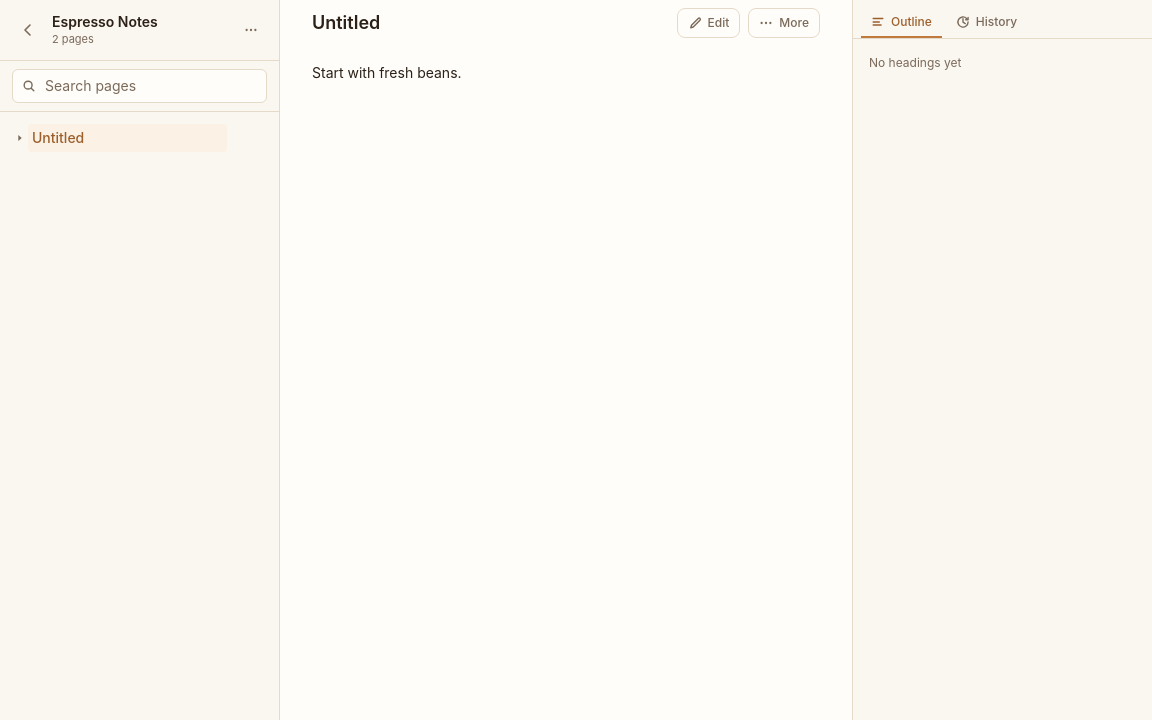
NotebookReaderPage › re-slugs a parent and says how many pages moved with it
Click the button "Edit". click: (708, 23)
box: left=677, top=8, right=740, bottom=38
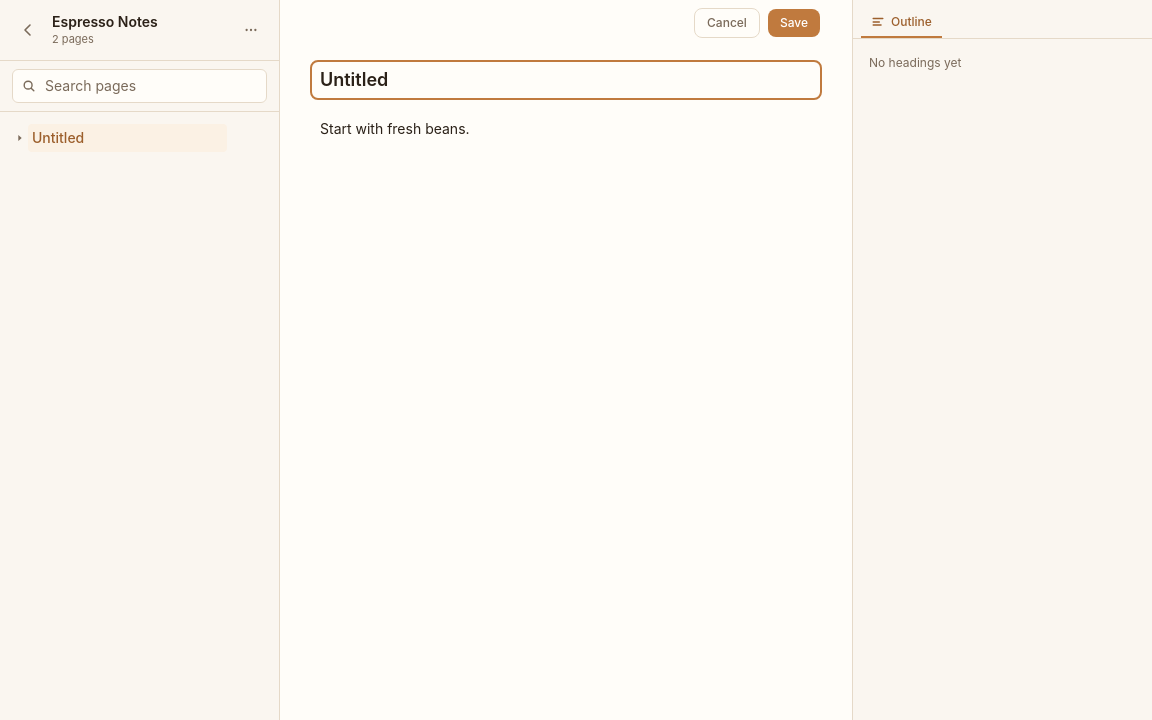
Replace the text in the field named "Page title" with "Filter Notes". click: (566, 80)
box: left=312, top=62, right=820, bottom=98
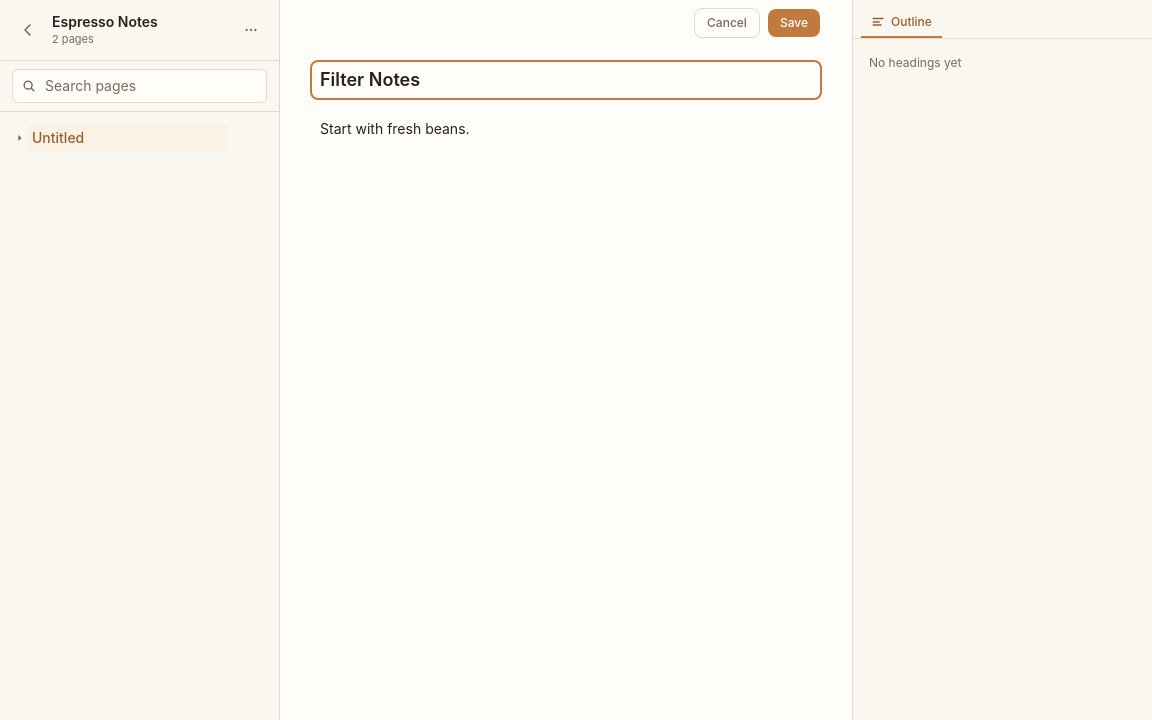
Click the button "Save". click: (794, 23)
box: left=768, top=9, right=820, bottom=37
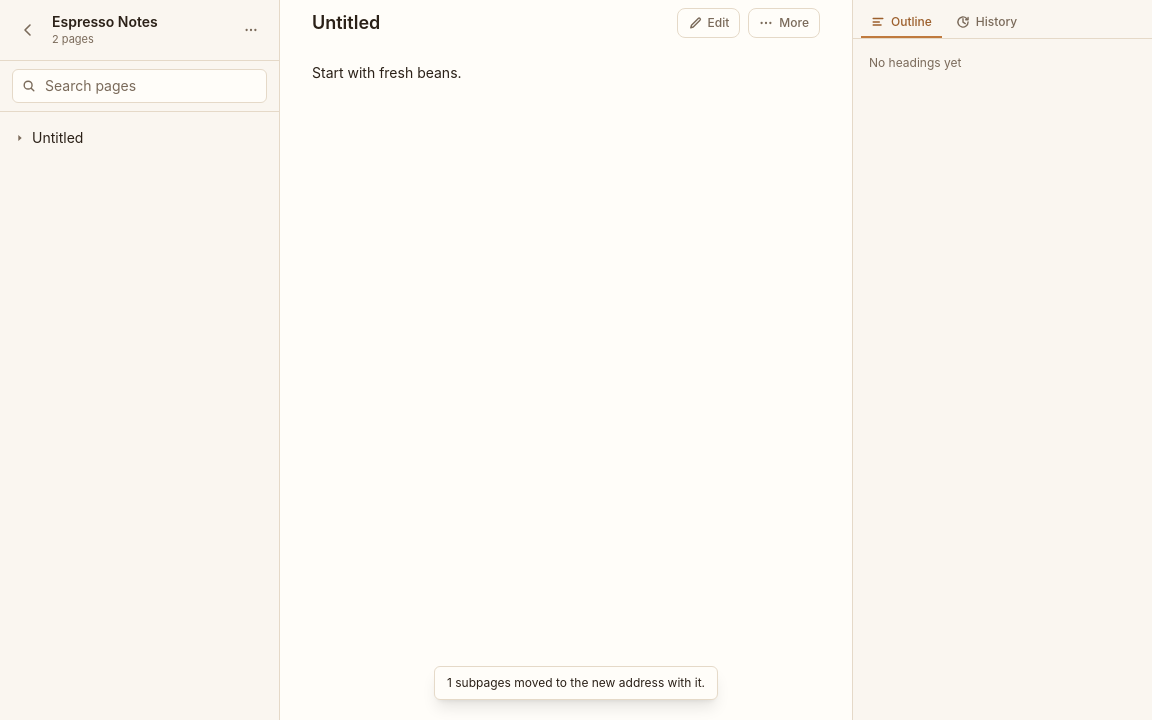
Now the message reads "1 subpages moved to the new address with it.", box left=434, top=666, right=718, bottom=700
